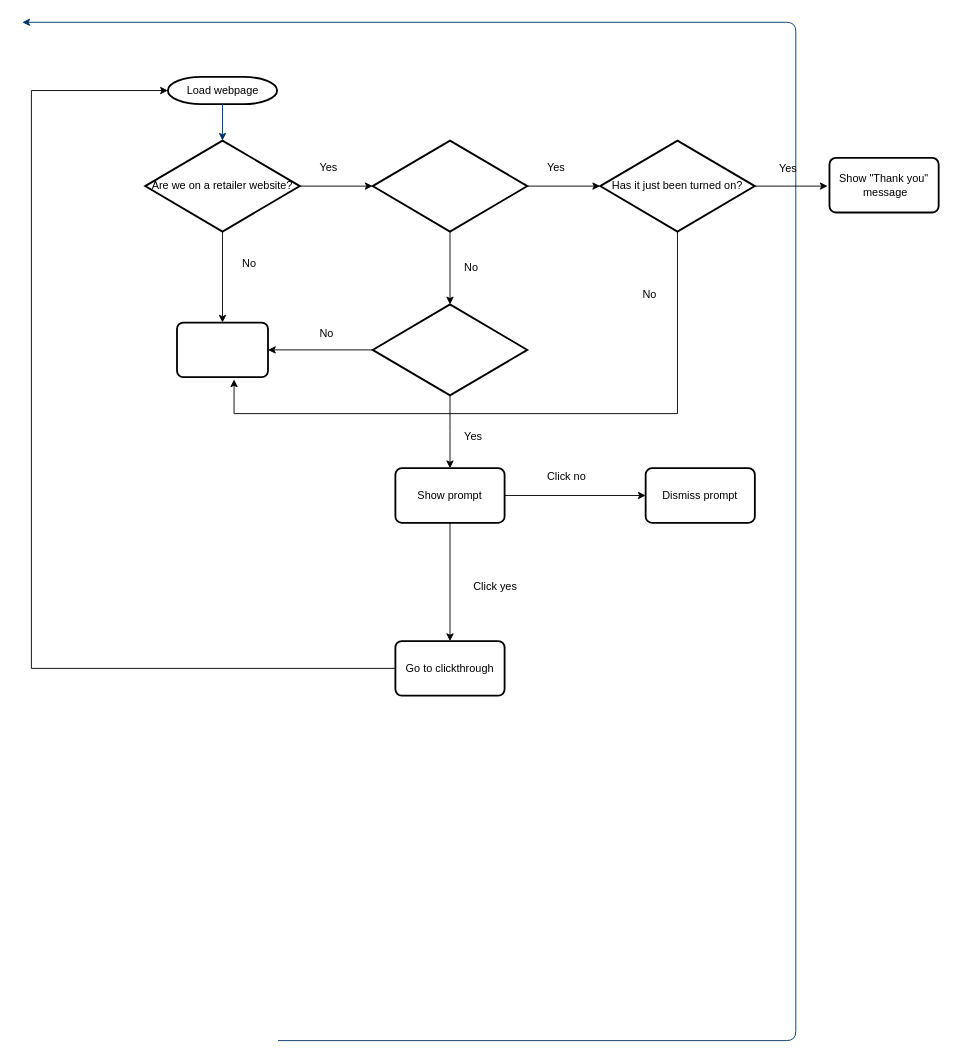
This 956x1064 diagram has some shape labels left out. Here are the shapes that lost their labels. From the top down, the box of each, then its label:
(371, 139, 528, 232): Has it been turned on previously?
(176, 321, 268, 378): Do nothing
(371, 303, 528, 396): Is it a supported retailer? Find out by calling /store/findByUrl
